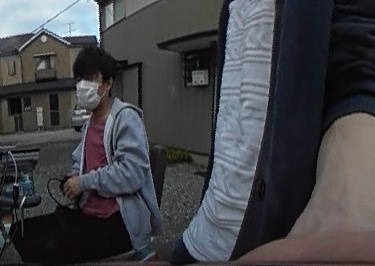person: (45, 44, 159, 262)
